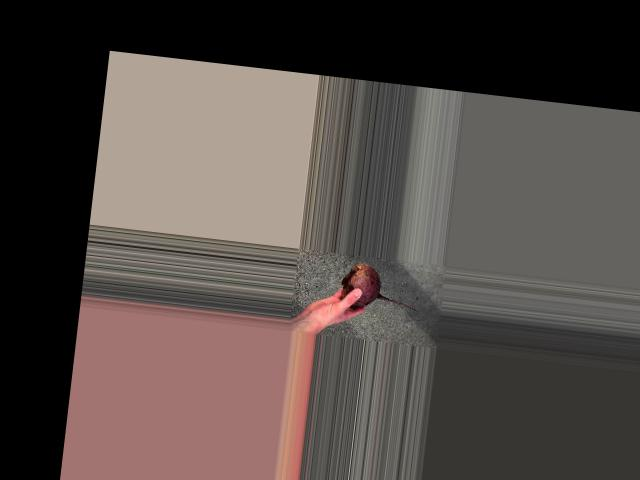beet: (339, 261, 421, 312)
